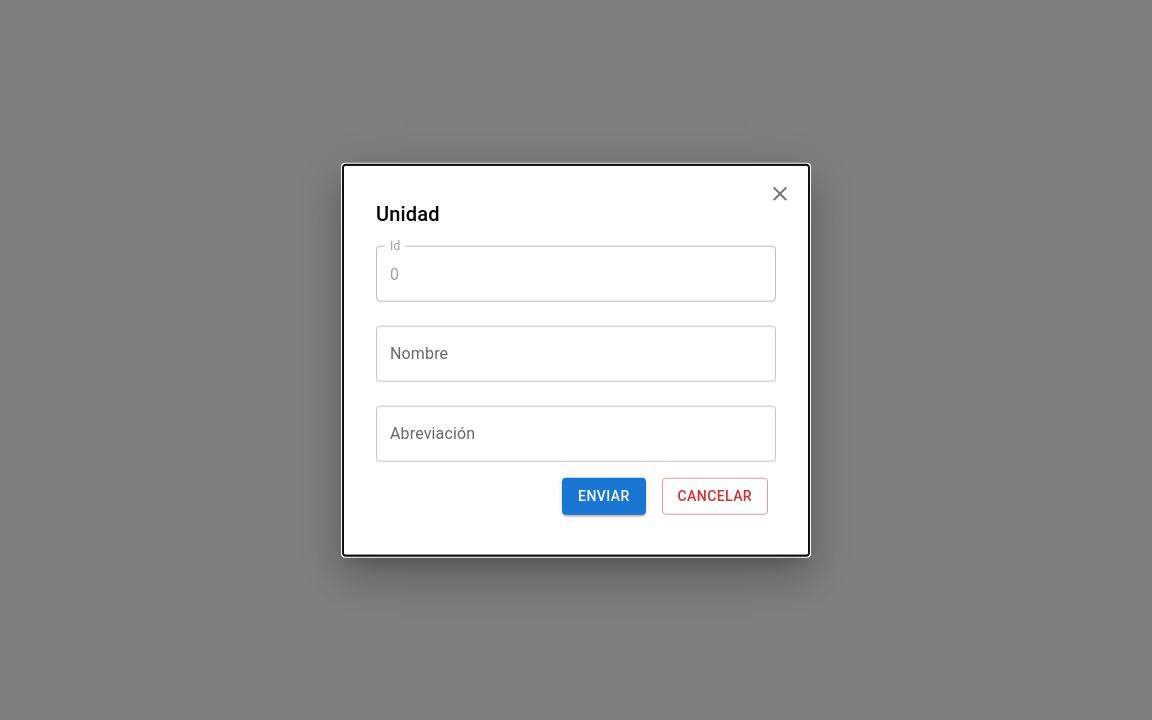
Test: UnidadFormModal › debería mostrar validaciones si se dejan campos vacíos
Click the button "Enviar" at (604, 496), box [562,478,646,514]
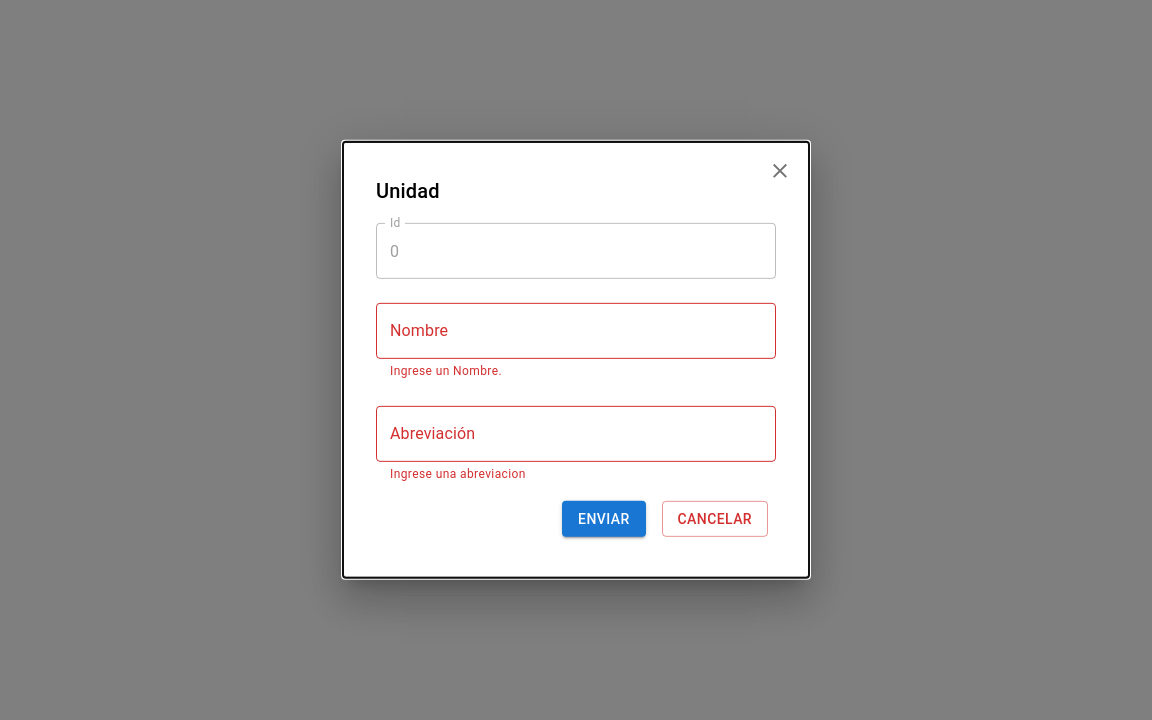
Expected: the text "Ingrese un Nombre." is shown, [390,364,502,378]
Expected: the text "Ingrese una abreviacion" is shown, [390,467,526,481]
